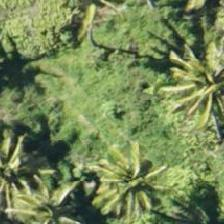coconut_tree: (81, 142, 171, 223), (157, 38, 223, 128), (0, 131, 55, 221), (5, 177, 95, 223)
